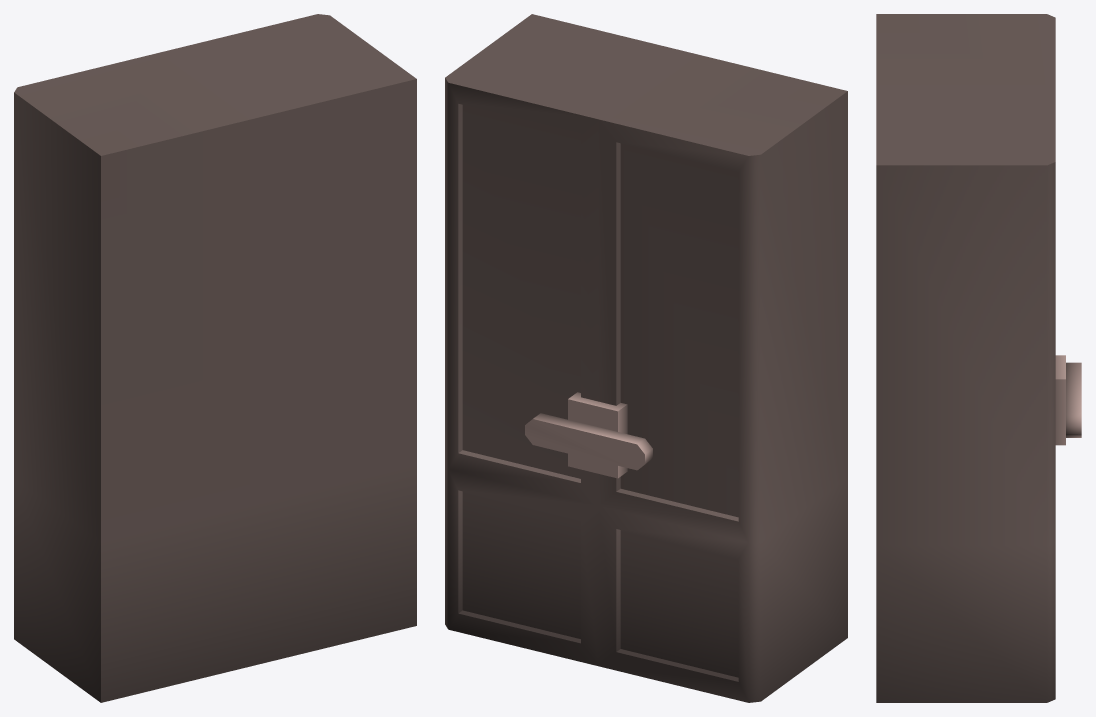
File: Furniture3.fbx
3 views of the same model, side by side, from view 1: azimuth 30°, elevation 25°; view 2: azimuth 150°, elevation 25°; view 3: azimuth 270°, elevation 25° (orthographic).
Visible parts, largest first — view 1: Furniture3; view 2: Furniture3; view 3: Furniture3.
Boxes of the visible parts, x1,y1,x2,y2 form: Furniture3: (14,14,416,702); Furniture3: (445,14,847,702); Furniture3: (876,14,1081,702).
Size of the model in its own units: 1.18 by 1.95 by 0.6766.
